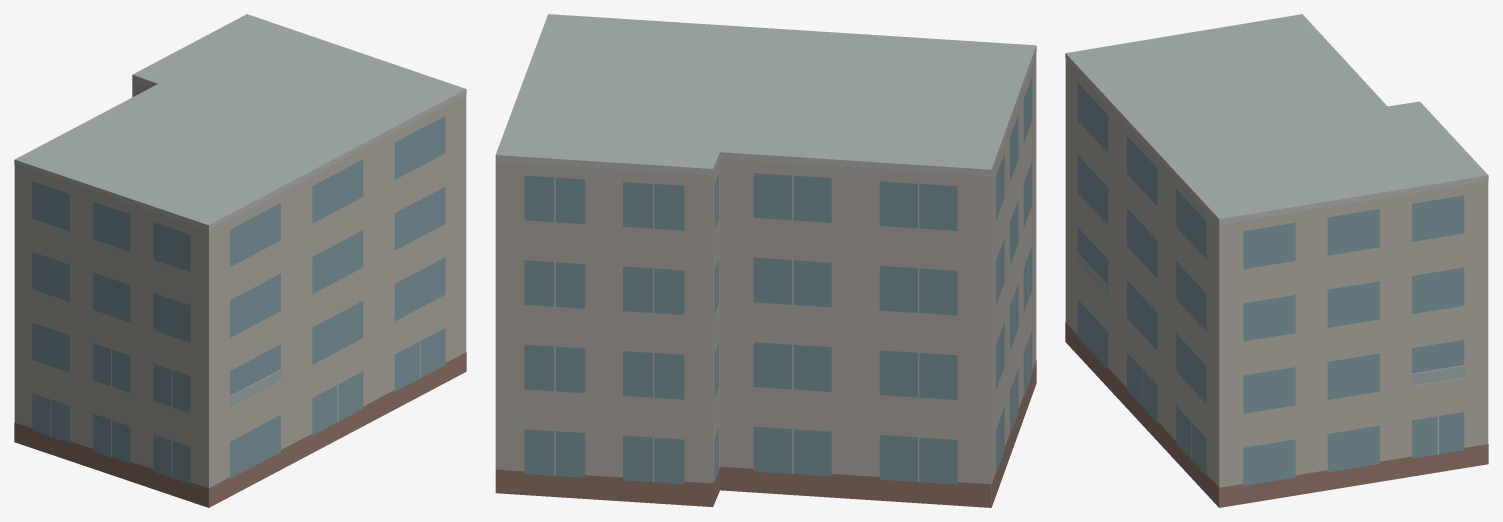
File: survey-upis-32978009.glb
3 renders of one model, left to right at view 1: azimuth 30°, elevation 25°; view 2: azimuth 150°, elevation 25°; view 3: azimuth 270°, elevation 25°, orthographic. The views are drawn at different scales.
Visible parts, largest first — view 1: survey-upis-32978009.tmp; view 2: survey-upis-32978009.tmp; view 3: survey-upis-32978009.tmp.
Boxes of the visible parts, left/top/right/bottom form: survey-upis-32978009.tmp: left=14, top=14, right=466, bottom=507; survey-upis-32978009.tmp: left=495, top=14, right=1036, bottom=507; survey-upis-32978009.tmp: left=1065, top=14, right=1488, bottom=507.
Bounding box in the file's own units: 19.81 × 13 × 17.26.
